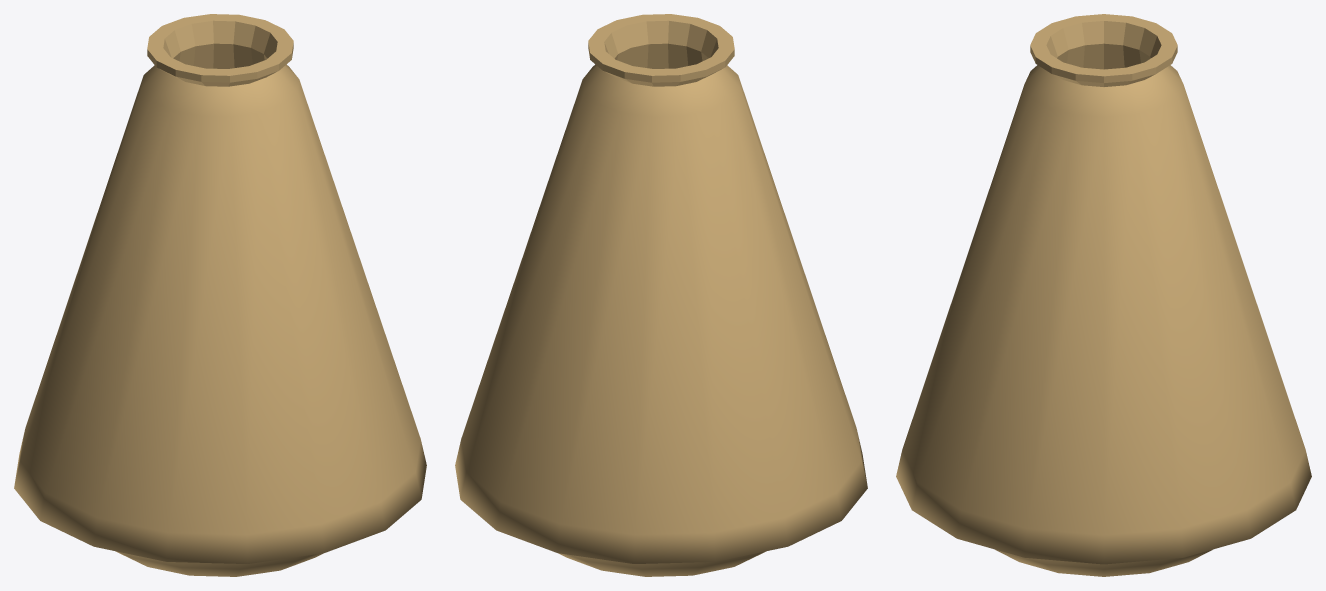
Rendered from SM_pottery_01.fbx.
3 views of the same model, side by side, from view 1: azimuth 30°, elevation 25°; view 2: azimuth 150°, elevation 25°; view 3: azimuth 270°, elevation 25° (orthographic).
Parts seen in each view (by area): view 1: pottery_01; view 2: pottery_01; view 3: pottery_01.
Part boxes in pixels (x1,y1,x2,y2): pottery_01: (14, 14, 426, 576); pottery_01: (455, 14, 867, 576); pottery_01: (896, 14, 1311, 576).
Size of the model in its own units: 110 by 141 by 110.
